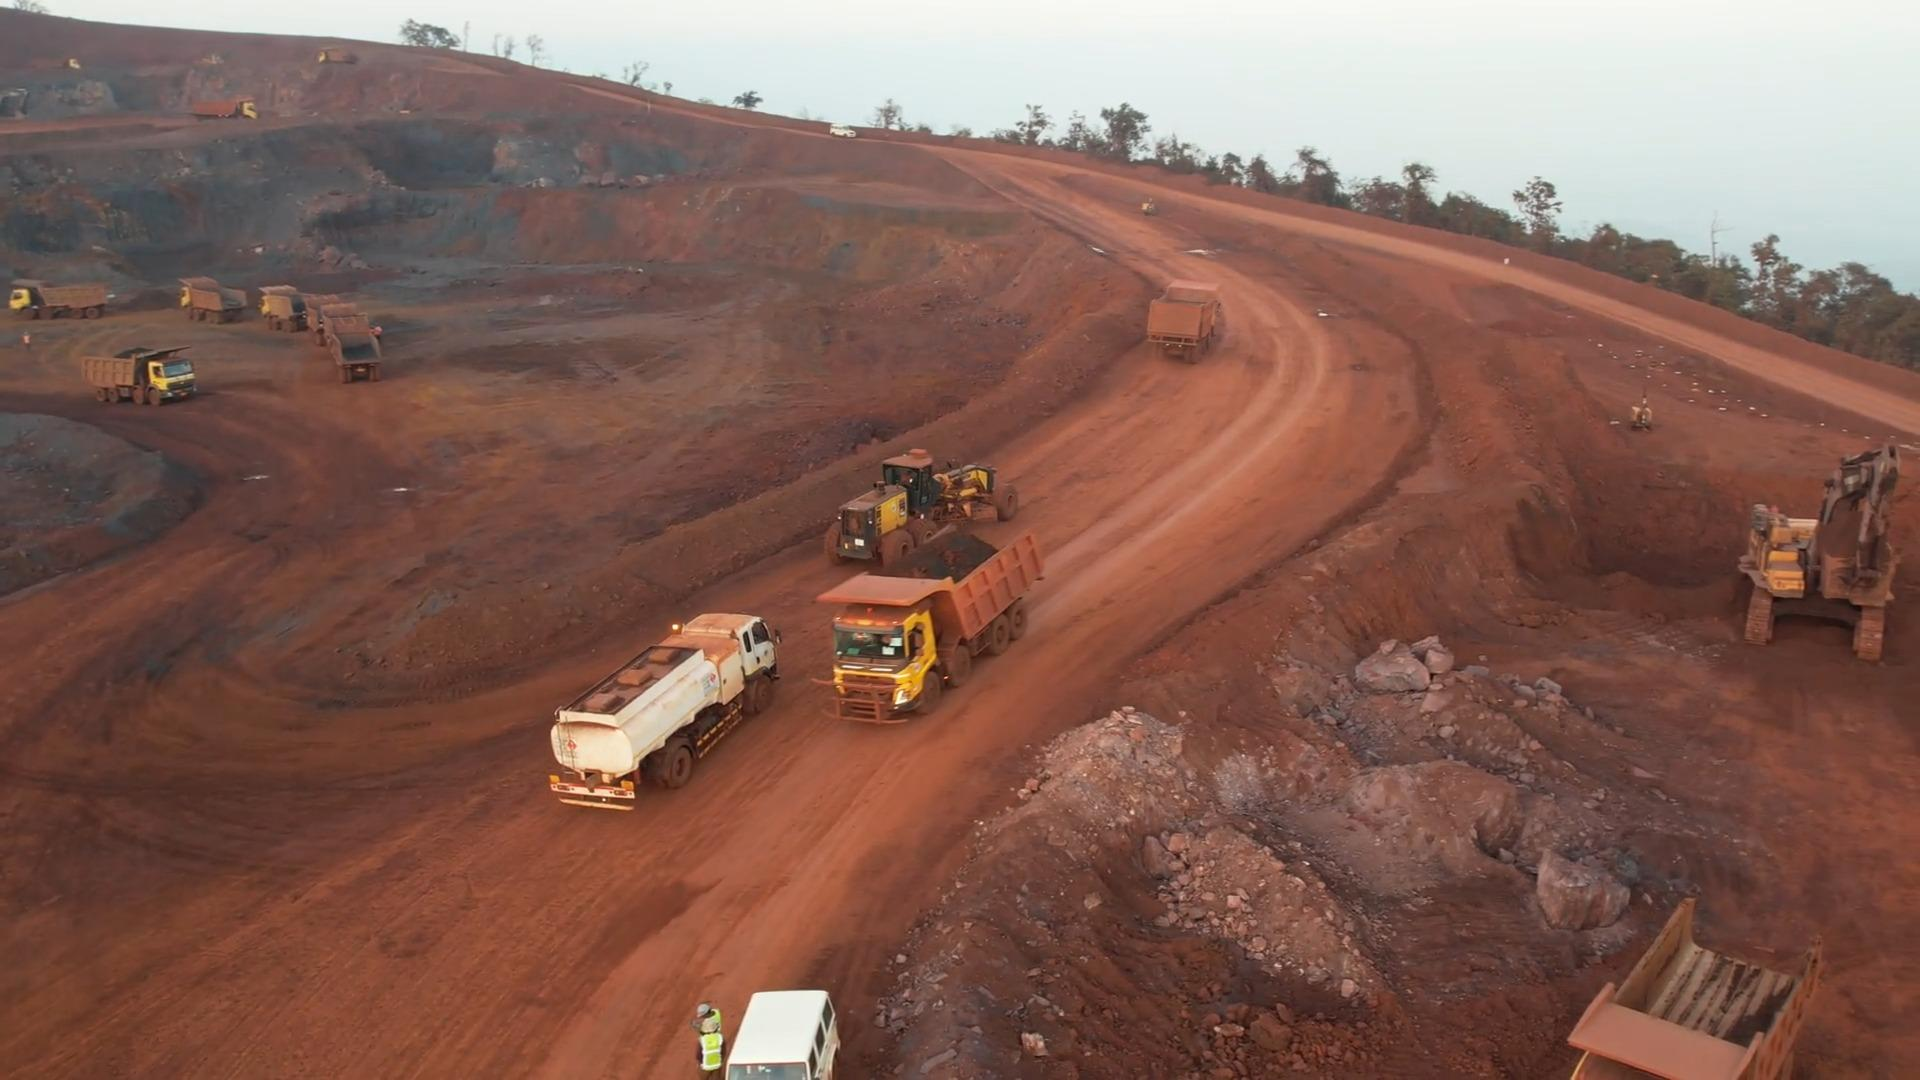excavator: (1739, 446, 1905, 653)
